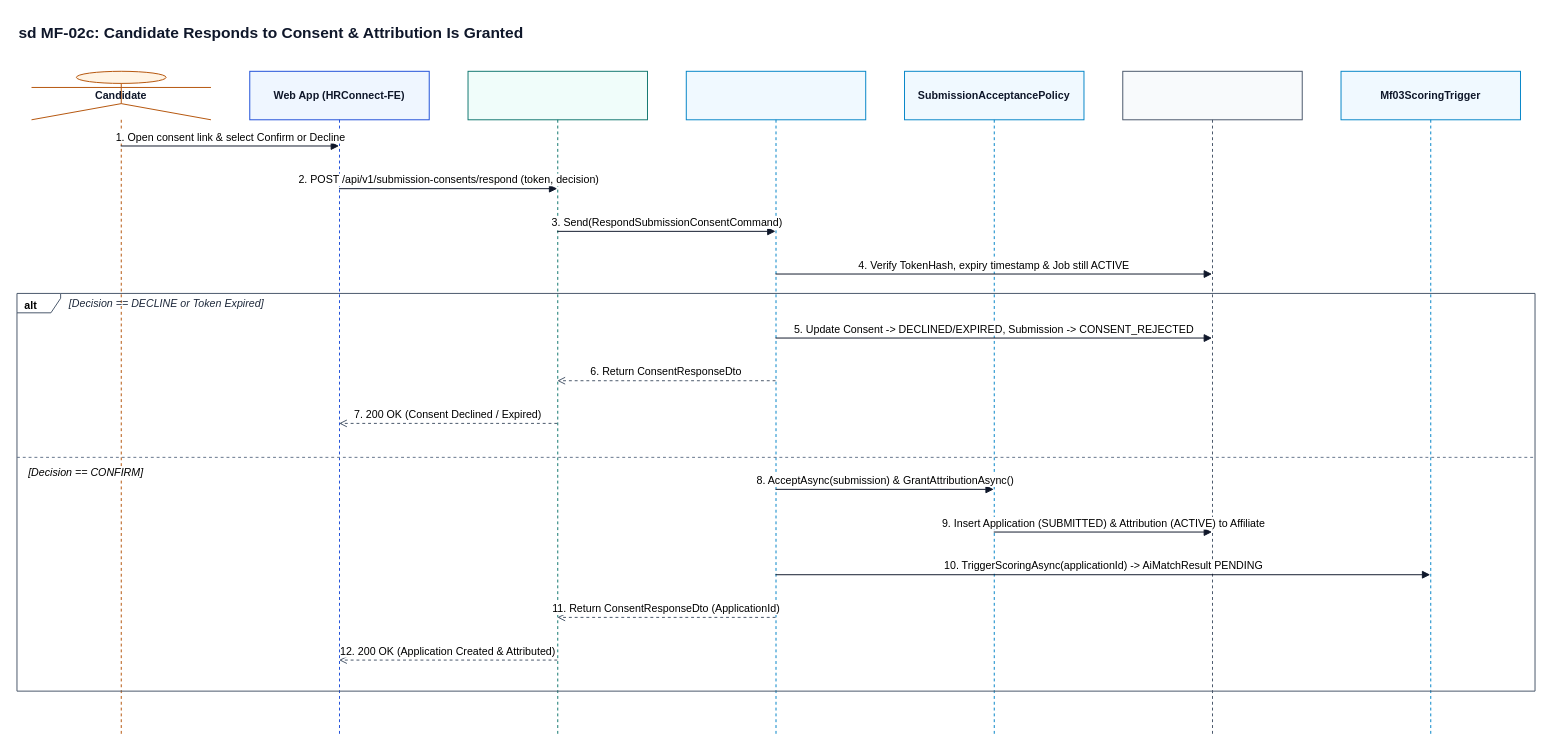
This 1562x753 diagram has some shape labels left out. The shapes that lost their labels are listed below. From the top down, each one's box as (x1, y1, x2, y2) in pixels, then its label:
(467, 70, 647, 736): SubmissionConsentEndpoints
(685, 70, 866, 736): RespondSubmissionConsentHandler
(1122, 70, 1302, 736): PostgreSQL
